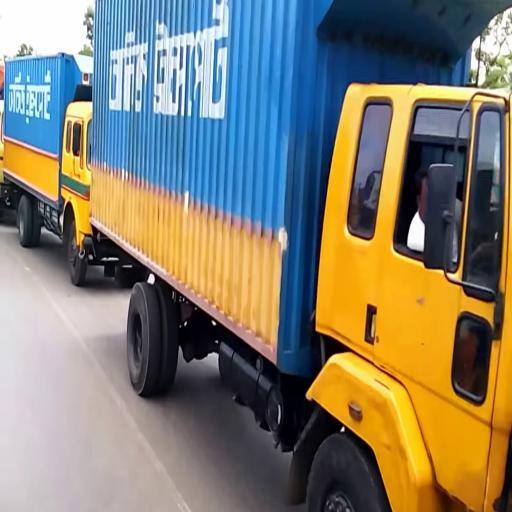pickup: (2, 50, 104, 295)
truck: (90, 3, 512, 511)
